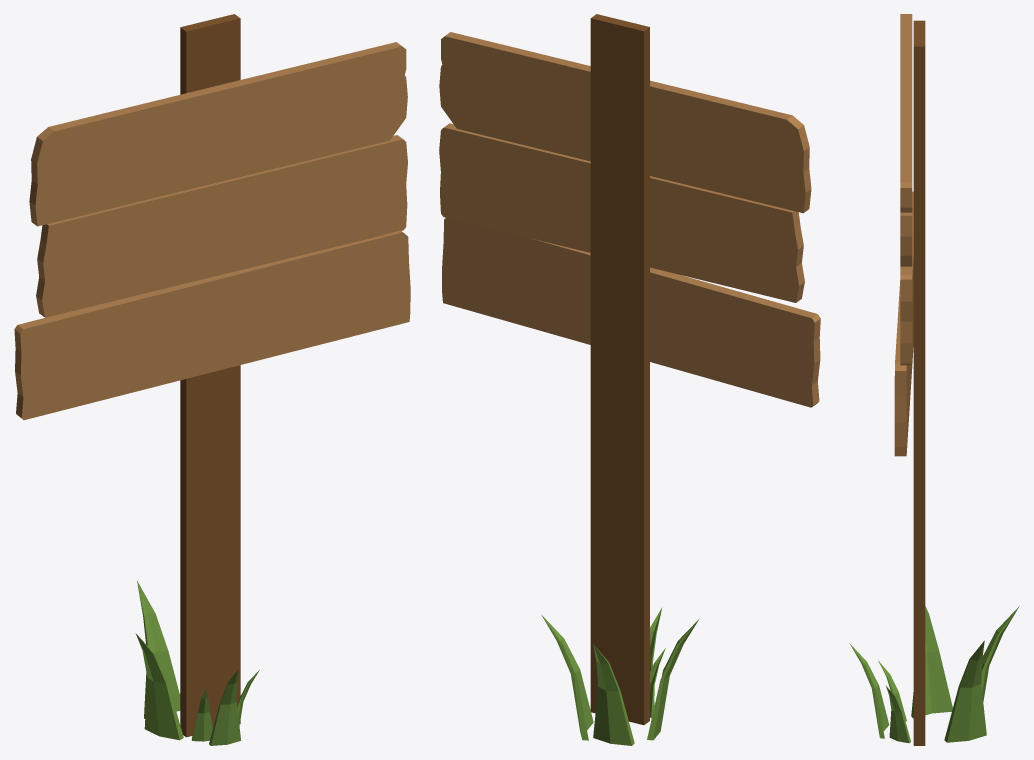
3 renders of one model, left to right at view 1: azimuth 30°, elevation 25°; view 2: azimuth 150°, elevation 25°; view 3: azimuth 270°, elevation 25°, orthographic.
Visible parts, largest first — view 1: Sign7; view 2: Sign7; view 3: Sign7.
Boxes of the visible parts, x1,y1,x2,y2 form: Sign7: (14,14,410,745); Sign7: (439,14,820,745); Sign7: (849,14,1019,745).
Bounding box in the file's own units: 1.13 × 1.98 × 0.4385.
